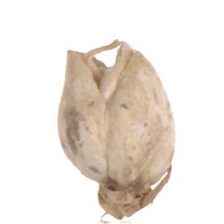L1: (87, 176, 163, 220), (69, 38, 123, 91)
L2: (56, 41, 175, 222)
